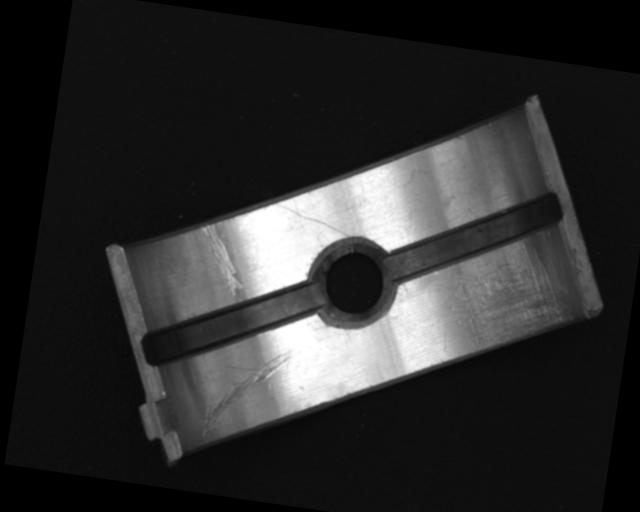gap: (383, 170, 566, 304), (139, 261, 321, 385)
hole: (301, 230, 404, 334)
nick: (199, 342, 291, 451), (190, 219, 253, 301), (270, 201, 353, 237)
scratch: (438, 231, 588, 365)
